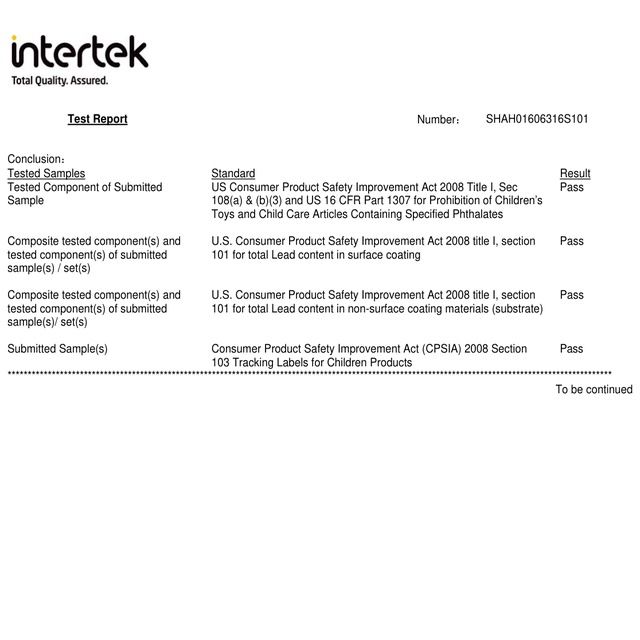intertek: (11, 32, 153, 75)
